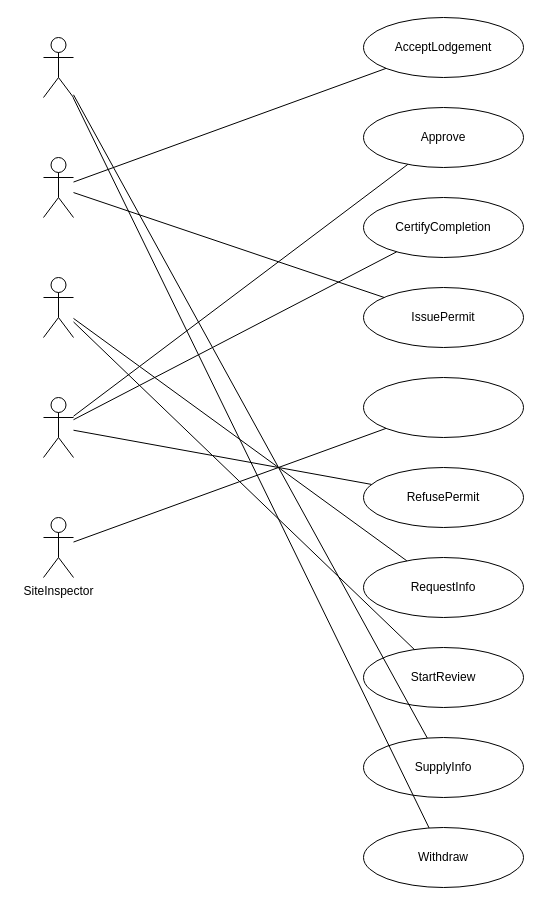
The diagram is 541 pixels wide and 905 high, and some of its shapes have lost their labels. Each missing label, with the centre of its shape:
"Applicant" belongs at point (58, 67).
"IntakeOfficer" belongs at point (58, 187).
"PassInspection" belongs at point (443, 407).
"PermitManager" belongs at point (58, 427).
"PlanReviewer" belongs at point (58, 307).
